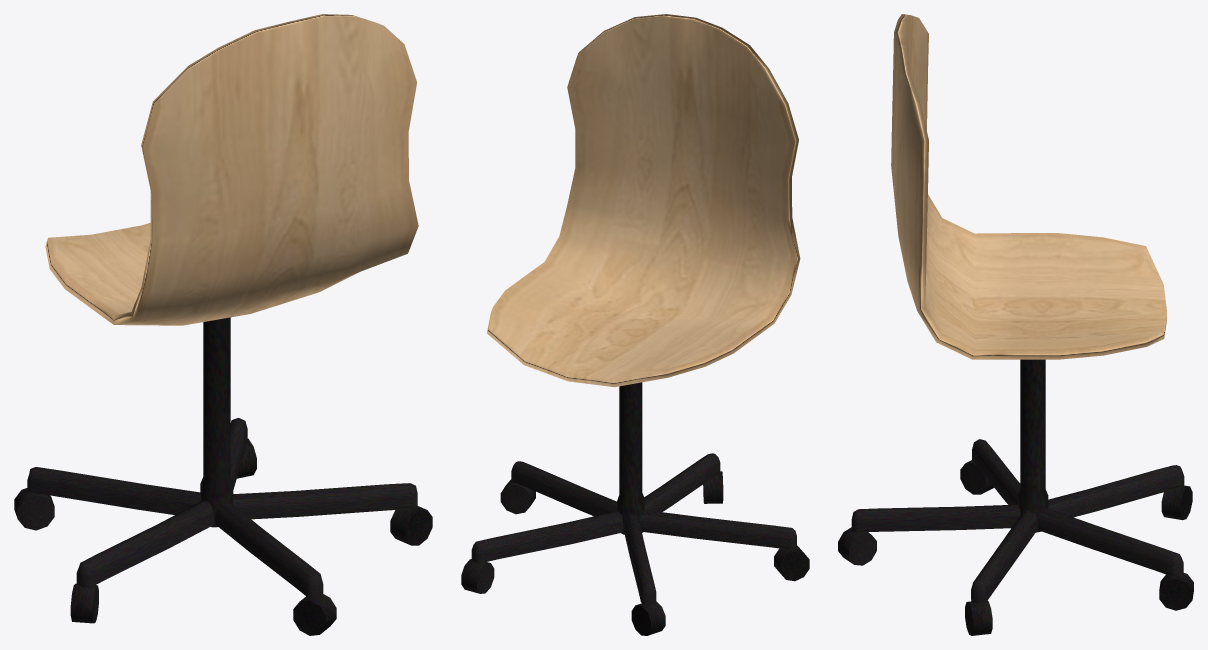
File: chair.obj
3 renders of one model, left to right at view 1: azimuth 30°, elevation 25°; view 2: azimuth 150°, elevation 25°; view 3: azimuth 270°, elevation 25°, orthographic. The views are drawn at different scales.
Visible parts, largest first — view 1: pPlane3; view 2: pPlane3; view 3: pPlane3.
Boxes of the visible parts, x1,y1,x2,y2 form: pPlane3: (14,14,432,635); pPlane3: (461,14,809,635); pPlane3: (838,14,1193,635).
Size of the model in its own units: 7.24 by 11.32 by 6.89.
